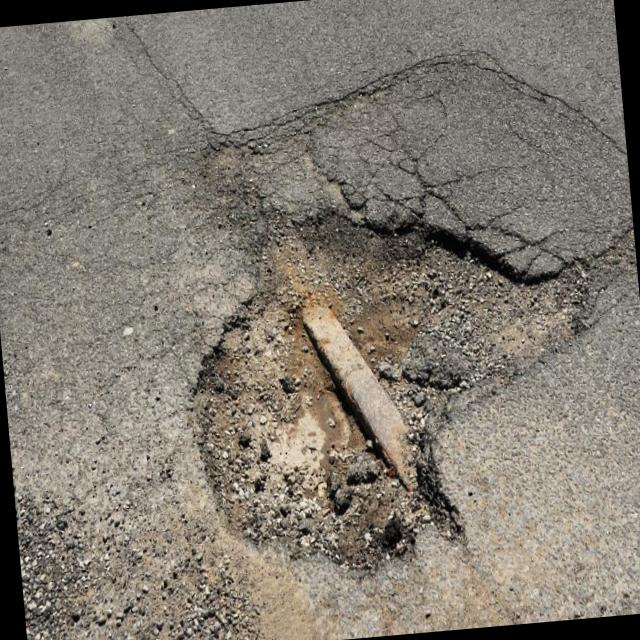Potholes: (156, 165, 640, 602)
